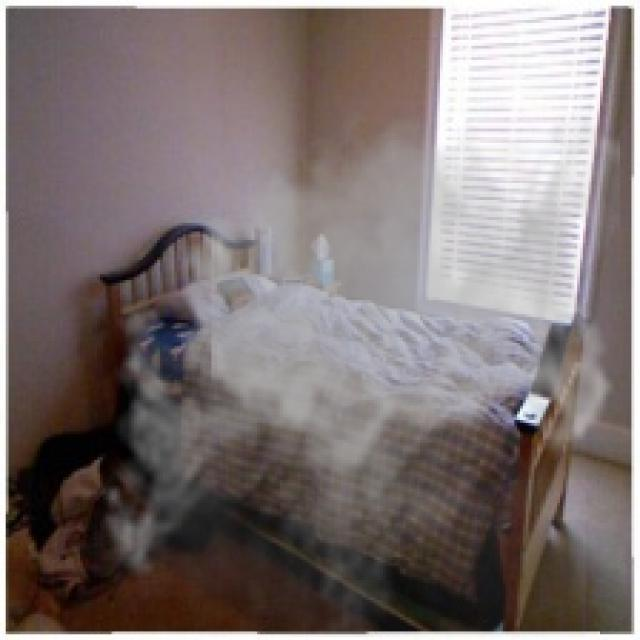Smoke: (85, 97, 620, 637)
